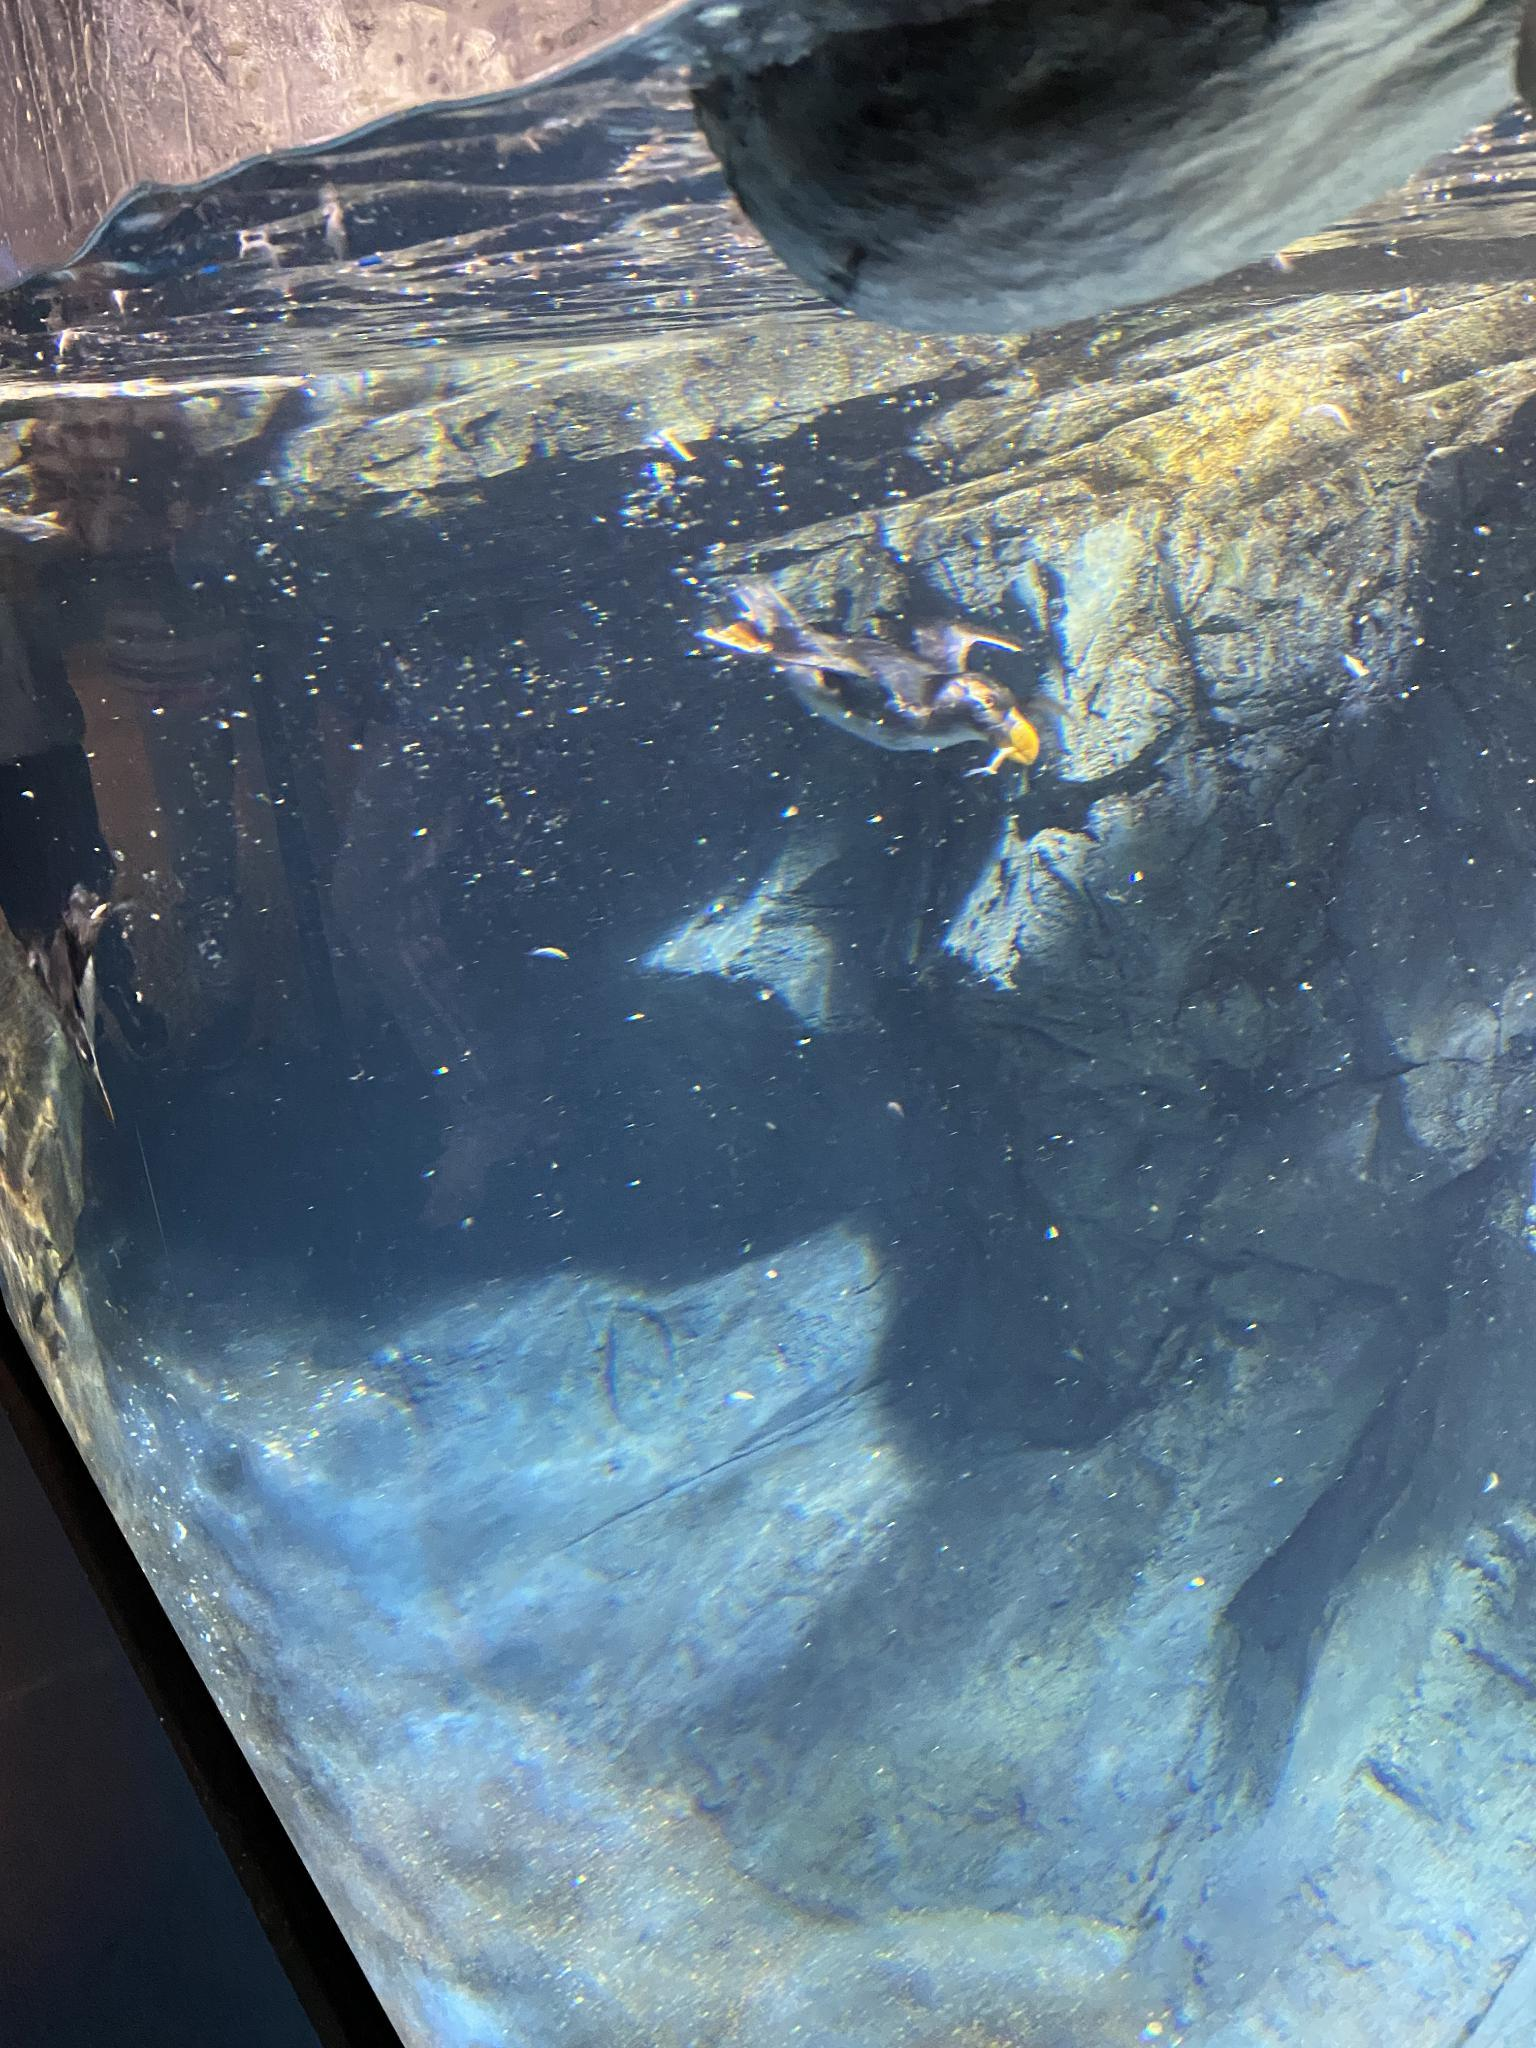puffin: (715, 577, 1066, 793)
